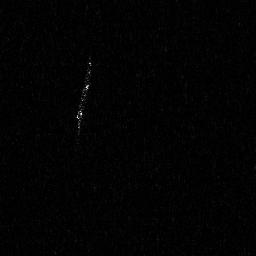ship: (74, 52, 92, 137)
